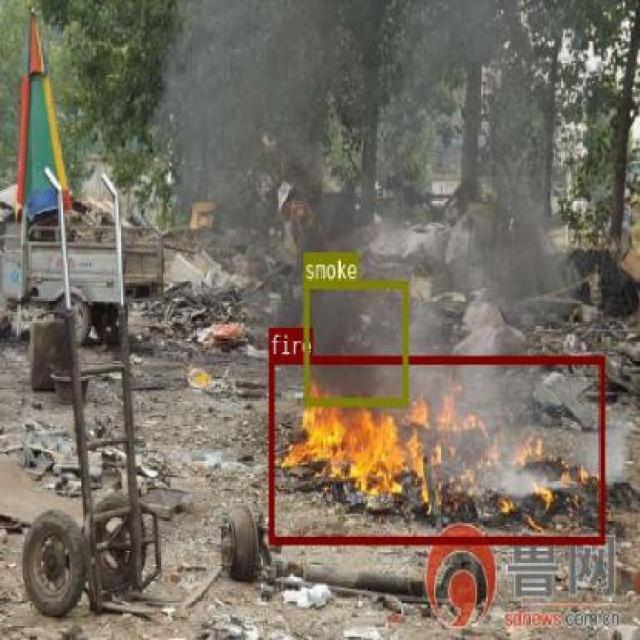Fire: (268, 354, 604, 542)
Smoke: (142, 4, 550, 203), (302, 280, 407, 405)
